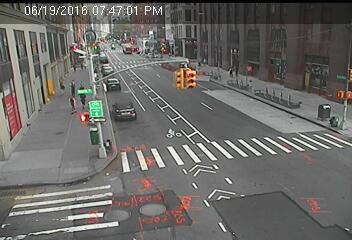neg: (273, 156, 294, 184), (284, 99, 304, 127), (196, 154, 216, 180), (39, 177, 58, 202), (133, 134, 151, 159), (5, 196, 22, 220), (67, 153, 84, 175), (17, 38, 33, 58), (234, 173, 250, 193), (228, 19, 243, 39), (291, 141, 306, 161), (310, 156, 325, 176), (237, 104, 252, 123), (270, 24, 284, 44), (231, 132, 245, 151), (37, 127, 51, 146), (291, 196, 305, 215), (8, 110, 22, 129), (17, 154, 31, 172), (201, 87, 214, 105), (127, 61, 140, 78), (302, 54, 315, 71), (167, 14, 180, 31), (107, 9, 120, 26), (52, 11, 65, 28), (162, 200, 175, 217), (90, 201, 103, 218), (176, 113, 189, 129), (167, 78, 179, 95), (183, 160, 195, 177), (17, 81, 29, 97), (126, 94, 137, 108), (118, 174, 128, 186)
pos: (65, 77, 80, 96), (77, 92, 90, 109), (225, 64, 236, 79), (65, 96, 76, 110), (58, 74, 68, 88), (70, 61, 79, 73), (233, 65, 242, 76), (79, 61, 86, 70), (197, 58, 203, 66)
